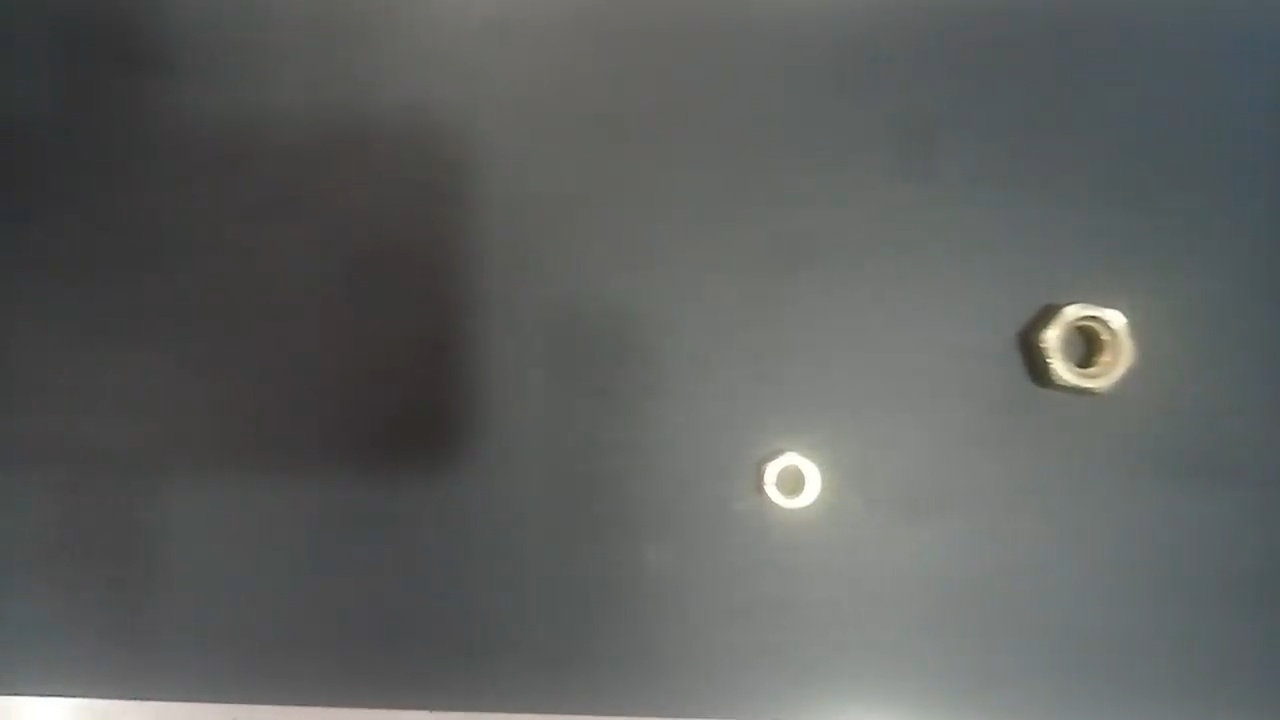Bolt: (1038, 298, 1140, 396), (760, 449, 824, 512)
